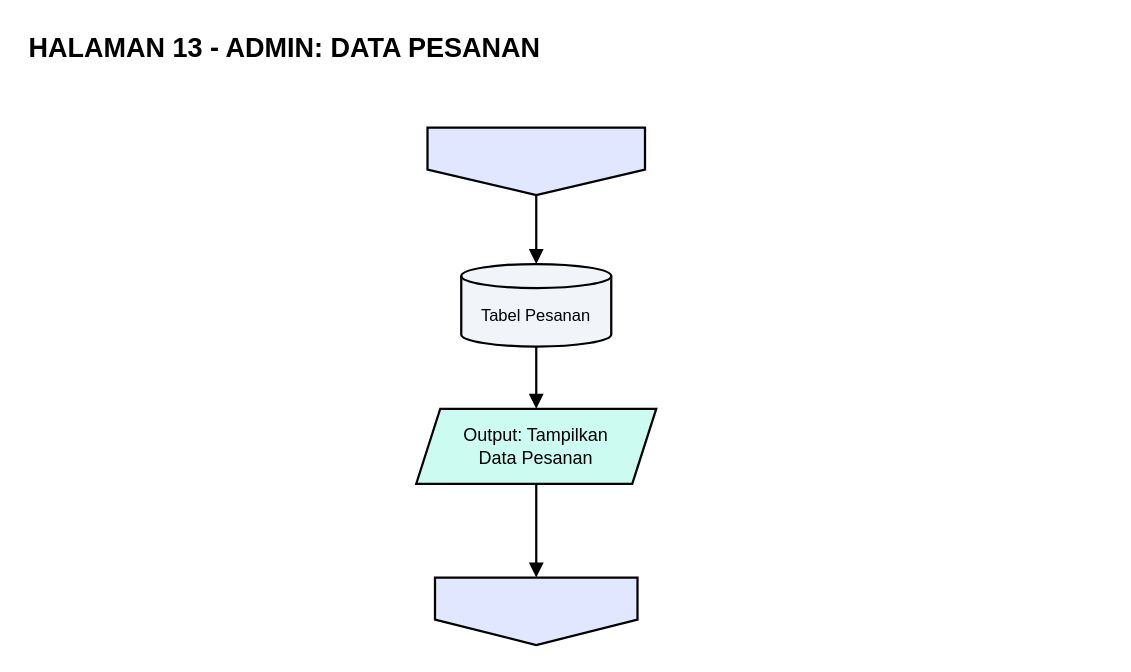
Image size: 1131x672. Some labels were removed from this diagram. Here are the shapes that lost their labels. From the top down, the box of each, then its label:
(426, 126, 645, 195): Halaman Data Pesanan
(433, 576, 638, 645): Halaman Menu Admin
